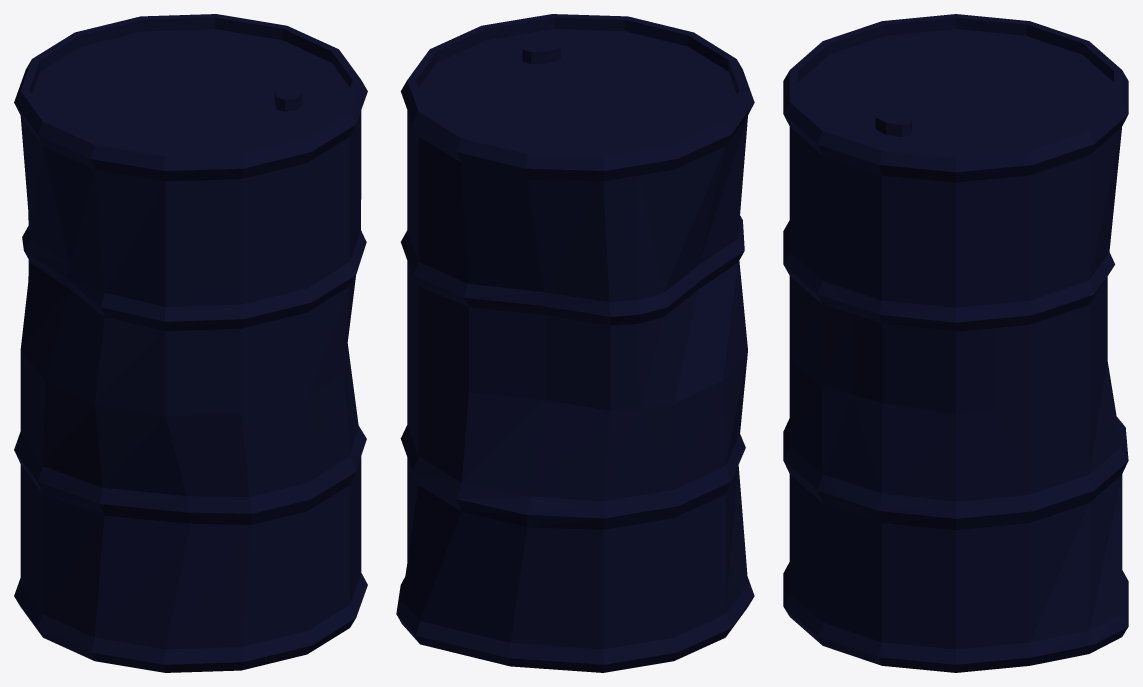
File: oilbarreldented.fbx
3 renders of one model, left to right at view 1: azimuth 30°, elevation 25°; view 2: azimuth 150°, elevation 25°; view 3: azimuth 270°, elevation 25°, orthographic.
Parts seen in each view (by area): view 1: oilbarrel001; view 2: oilbarrel001; view 3: oilbarrel001.
Boxes of the visible parts, <box> form: oilbarrel001: <box>14,14,367,672</box>; oilbarrel001: <box>396,14,754,672</box>; oilbarrel001: <box>783,14,1128,672</box>.
Bounding box in the file's own units: 62.32 × 100 × 60.76.
